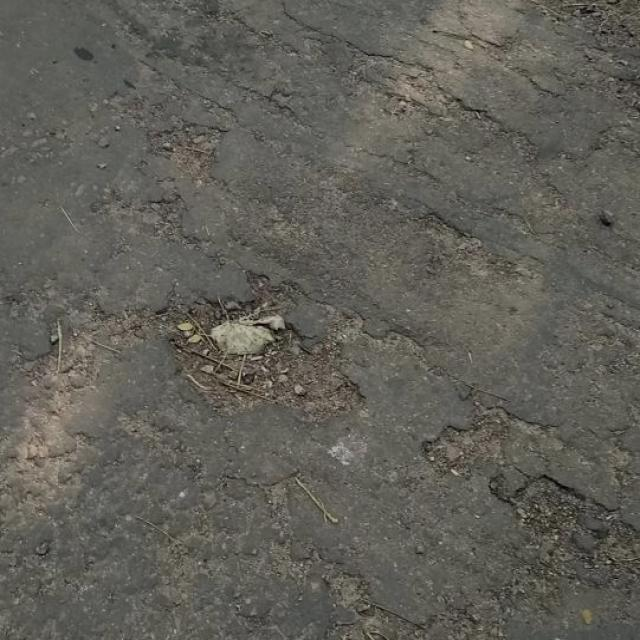road-pothole: (137, 279, 370, 432)
